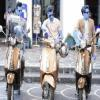motorcycles: (38, 33, 62, 100), (74, 39, 96, 100), (5, 34, 25, 100)
